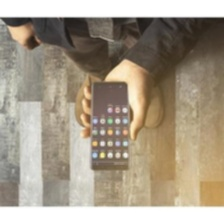phone: (88, 79, 132, 173)
